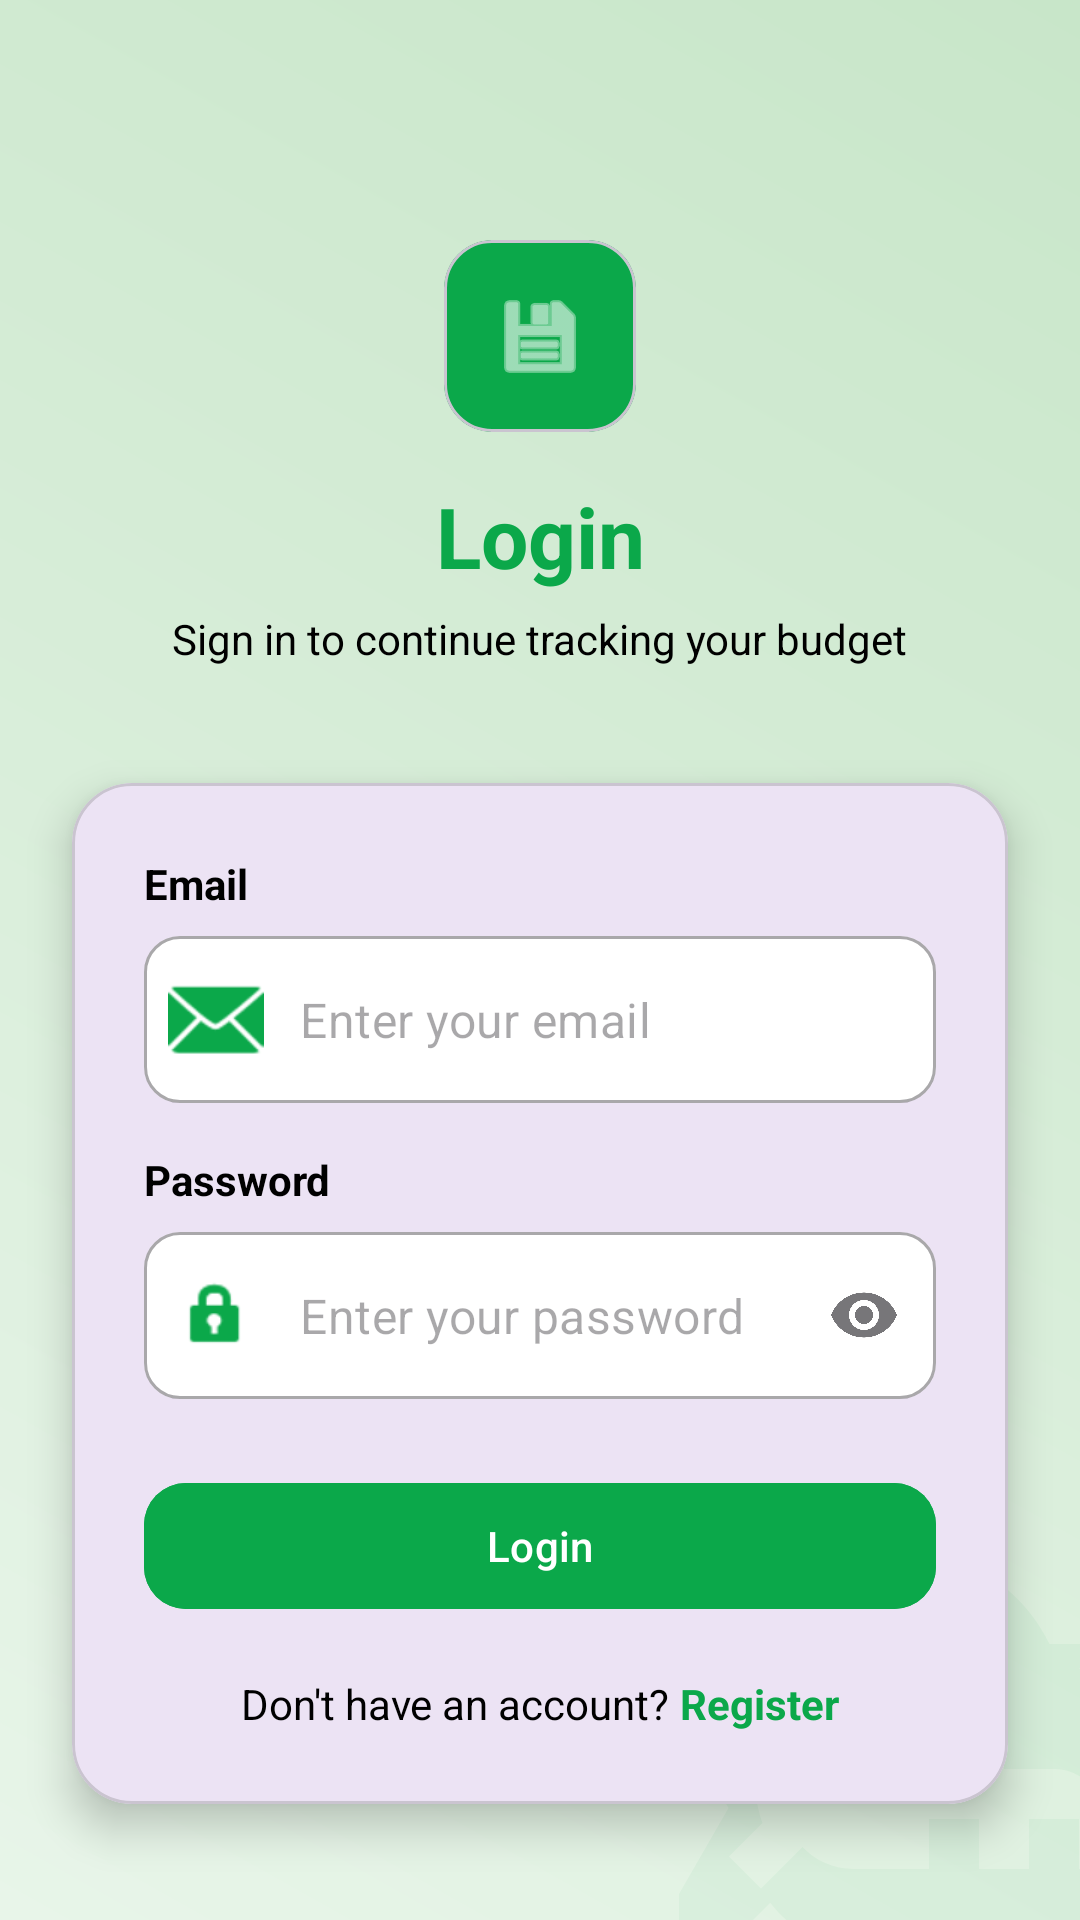

Where to tap for icons on this 1080x1920 app screen, as (x,y):
save: (540,336)
